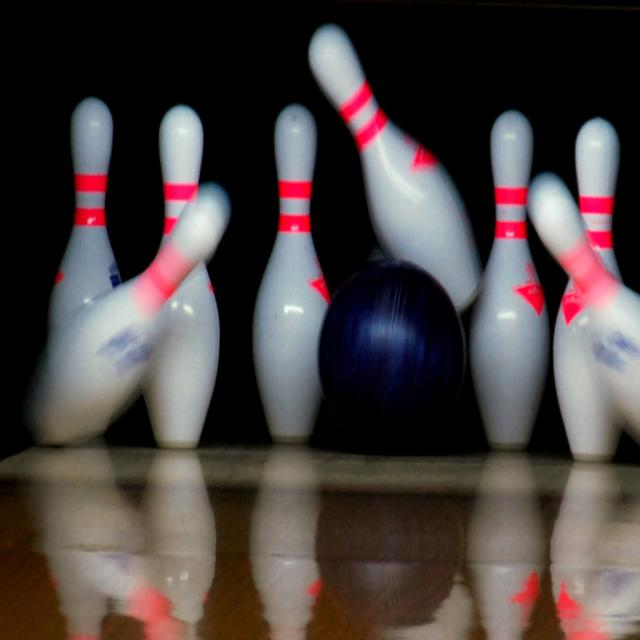Ball: (317, 260, 463, 454)
